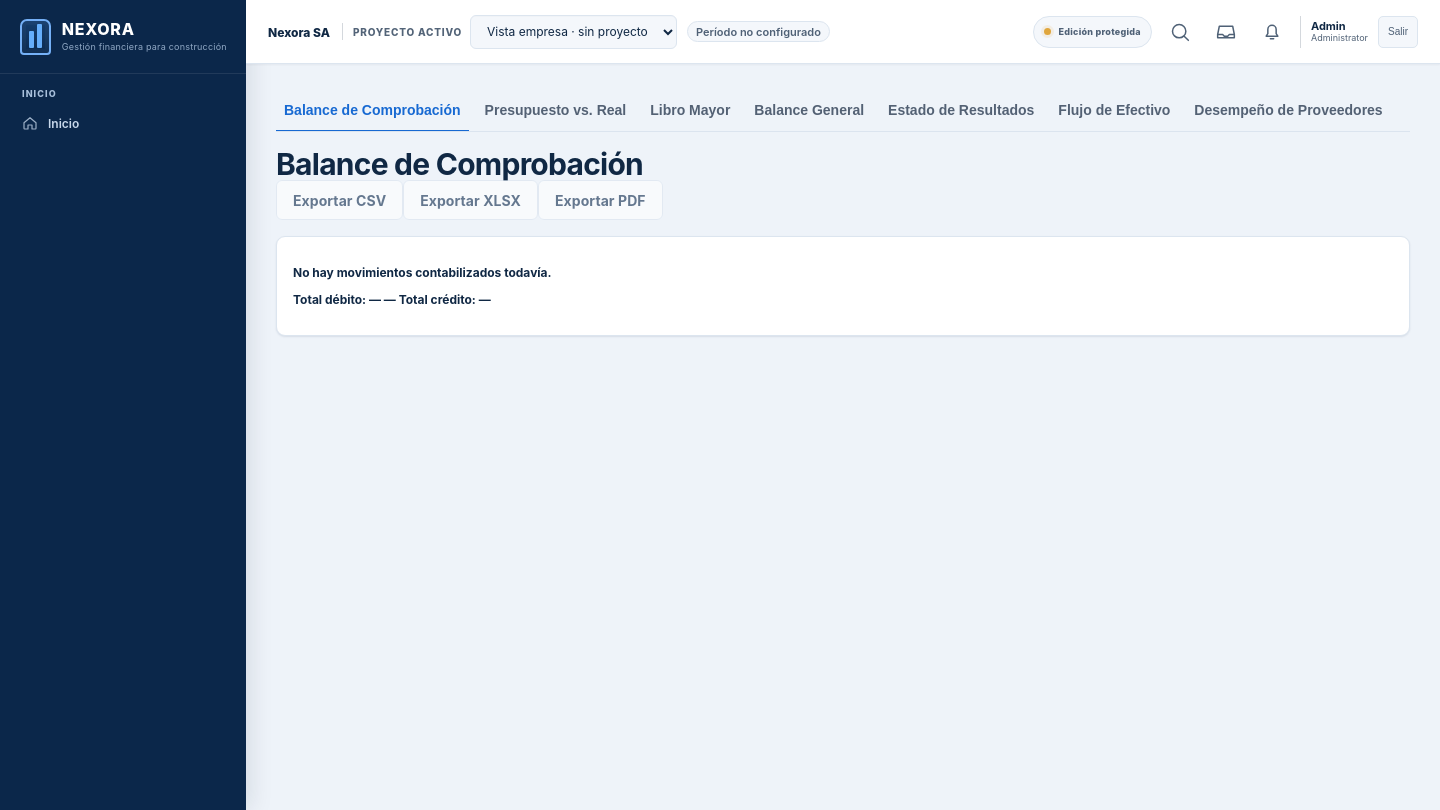
it: BudgetVsActualPage › prompts to select an active project when none is set
The image size is (1440, 810).
Click the tab "Presupuesto vs. Real".
click(555, 111)  # box left=477, top=90, right=634, bottom=132
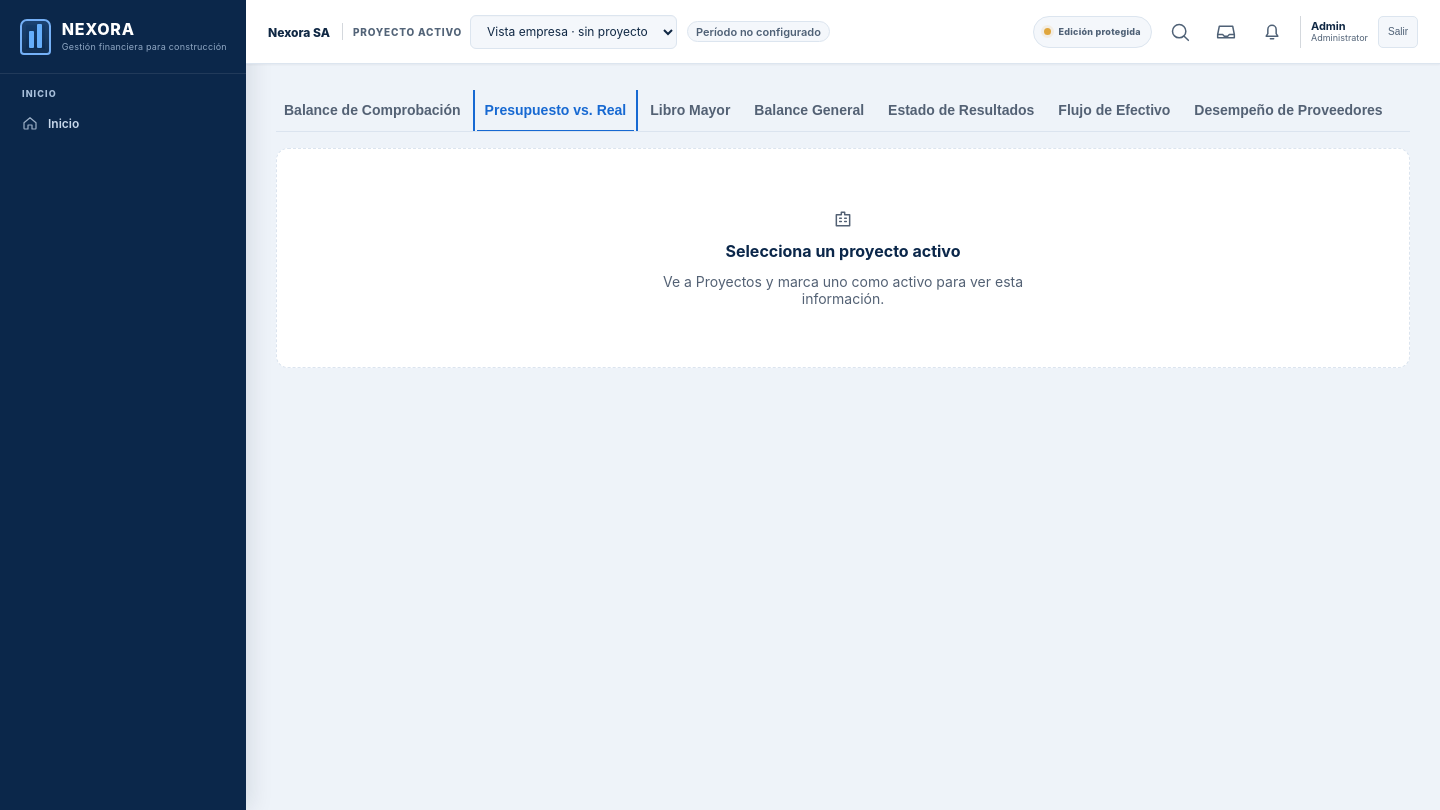
Check: the text "Selecciona un proyecto activo" is shown, box left=726, top=241, right=960, bottom=261
